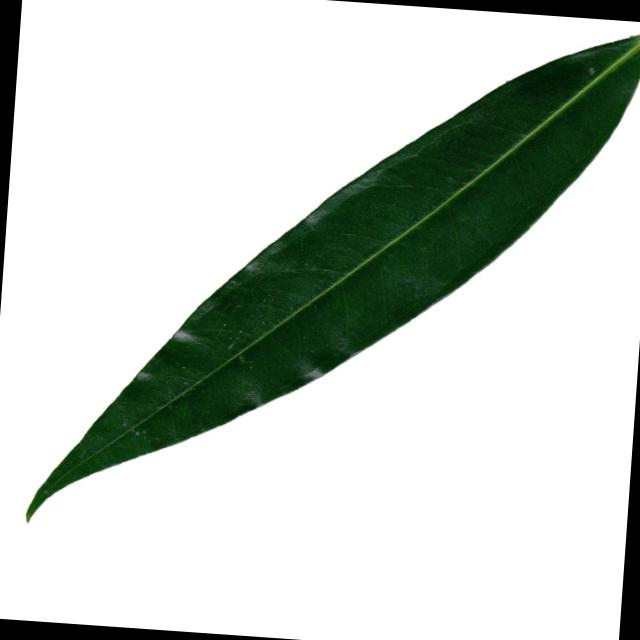Medicinal-Rose Apple: (25, 0, 640, 560)
